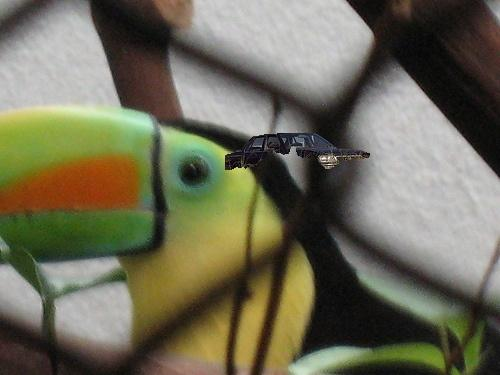tampered: (226, 134, 370, 170)
